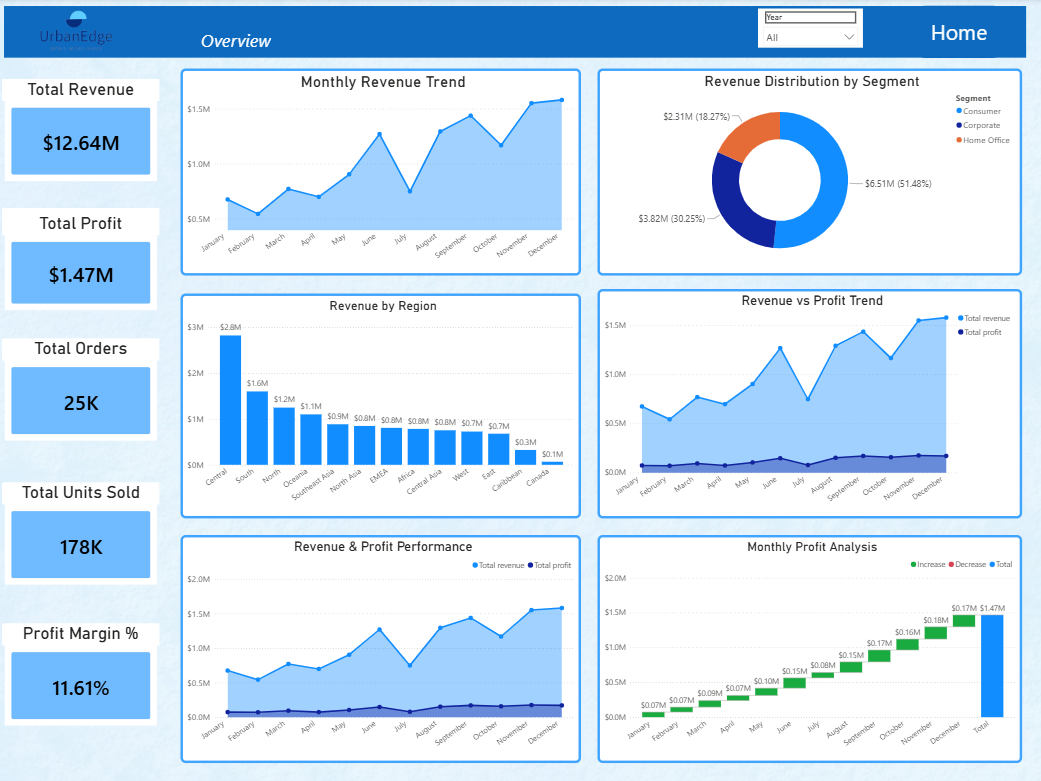

Layout of this report page (visuals, bound fields, positions):
{"tool":"powerbi","page":{"name":"Overview","canvas":[2000,1500],"ordinal":1},"visuals":[{"type":"cardVisual","title":"Total Revenue","fields":{"Data":["Global_Superstore2.Total revenue"]},"box":[10.9,154.4,300,200],"z":0},{"type":"shape","box":[0,0,1978.3,113.4],"z":1000},{"type":"image","box":[40,0,225.9,134.4],"z":2000},{"type":"actionButton","box":[375.6,40.9,165.5,78.1],"z":3000},{"type":"slicer","fields":{"Values":["Global_Superstore2.Year"]},"box":[1452.4,20,200.1,74.3],"z":4000},{"type":"cardVisual","title":"Total Profit","fields":{"Data":["Global_Superstore2.Total profit"]},"box":[11.4,400.3,300.2,200.1],"z":5000},{"type":"cardVisual","title":"Total Orders","fields":{"Data":["Global_Superstore2.Total orders"]},"box":[11.4,649,300.2,200.1],"z":6000},{"type":"cardVisual","title":"Total Units Sold","fields":{"Data":["Global_Superstore2.Total Units Sold"]},"box":[11.4,923.5,300.2,200.1],"z":7000},{"type":"cardVisual","title":"Profit Margin %","fields":{"Data":["Global_Superstore2.Profit Margin %"]},"box":[11.4,1192.2,300.2,200.1],"z":8000},{"type":"lineChart","title":" Monthly Revenue Trend","fields":{"Y":["Global_Superstore2.Total revenue"],"Category":["Global_Superstore2.Order Date.Variation.Date Hierarchy.Month"]},"box":[351.7,134.4,763.4,394.5],"z":9000},{"type":"donutChart","title":"Revenue Distribution by Segment","fields":{"Category":["Global_Superstore2.Segment"],"Y":["Global_Superstore2.Total revenue"]},"box":[1146.5,134.4,809.1,394.5],"z":10000},{"type":"lineChart","title":"Revenue vs Profit Trend","fields":{"Y":["Global_Superstore2.Total revenue","Global_Superstore2.Total profit"],"Category":["Global_Superstore2.Order Date.Variation.Date Hierarchy.Month"]},"box":[1146.5,554.6,809.1,437.4],"z":11000},{"type":"clusteredColumnChart","title":"Revenue by Region","fields":{"Category":["Global_Superstore2.Region"],"Y":["Global_Superstore2.Total revenue"]},"box":[351.7,563.2,763.4,428.9],"z":12000},{"type":"waterfallChart","title":"Monthly Profit Analysis","fields":{"Y":["Global_Superstore2.Total profit"],"Category":["Global_Superstore2.Order Date.Variation.Date Hierarchy.Month"]},"box":[1146.5,1023.5,809.1,434.6],"z":13000},{"type":"lineChart","title":"Revenue & Profit Performance","fields":{"Y":["Global_Superstore2.Total revenue","Global_Superstore2.Total profit"],"Category":["Global_Superstore2.Order Date.Variation.Date Hierarchy.Month"]},"box":[351.7,1023.5,763.4,434.6],"z":14000},{"type":"actionButton","box":[1746.9,14.3,177.3,100.1],"z":15000}]}

Visuals, with their boxes in screenshot pixels (x1, y1, x2, y2), scaled from the page's 2000x1500 canvas onto the 1041x781 screenshot:
"Total Revenue" cardVisual: crop(6, 80, 162, 185)
shape: crop(0, 0, 1030, 59)
image: crop(21, 0, 138, 70)
actionButton: crop(195, 21, 282, 62)
slicer - Global_Superstore2.Year: crop(756, 10, 860, 49)
"Total Profit" cardVisual: crop(6, 208, 162, 313)
"Total Orders" cardVisual: crop(6, 338, 162, 442)
"Total Units Sold" cardVisual: crop(6, 481, 162, 585)
"Profit Margin %" cardVisual: crop(6, 621, 162, 725)
" Monthly Revenue Trend" lineChart: crop(183, 70, 580, 275)
"Revenue Distribution by Segment" donutChart: crop(597, 70, 1018, 275)
"Revenue vs Profit Trend" lineChart: crop(597, 289, 1018, 517)
"Revenue by Region" clusteredColumnChart: crop(183, 293, 580, 517)
"Monthly Profit Analysis" waterfallChart: crop(597, 533, 1018, 759)
"Revenue & Profit Performance" lineChart: crop(183, 533, 580, 759)
actionButton: crop(909, 7, 1002, 60)
